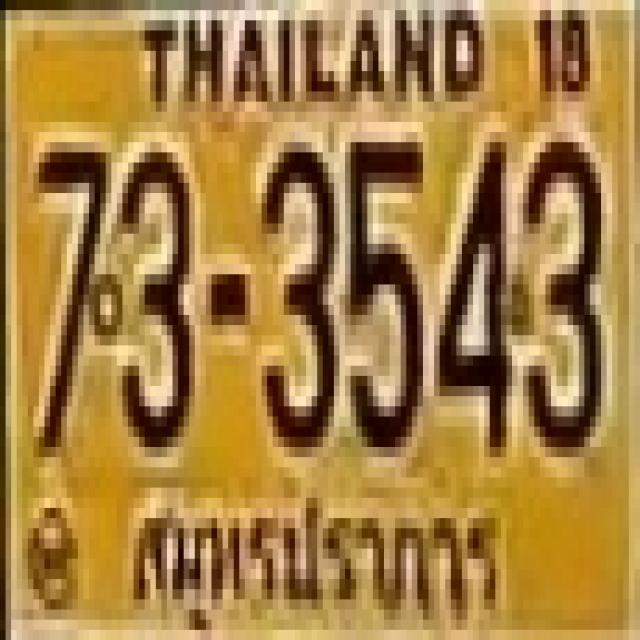3: (518, 132, 596, 447), (259, 132, 331, 447), (117, 137, 189, 442)
4: (434, 132, 507, 447)
5: (345, 132, 417, 447)
7: (33, 142, 106, 447)
SPK: (115, 466, 515, 638)
